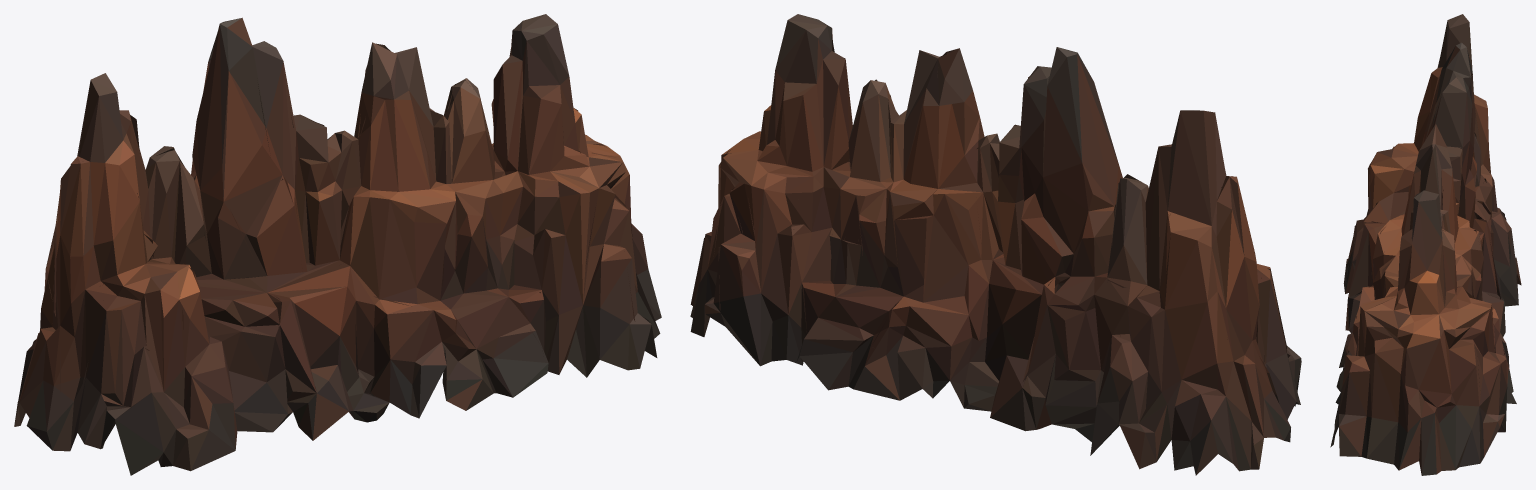
File: mn_rock_spires.glb
3 views of the same model, side by side, from view 1: azimuth 30°, elevation 25°; view 2: azimuth 150°, elevation 25°; view 3: azimuth 270°, elevation 25° (orthographic). The views are drawn at different scales.
Parts seen in each view (by area): view 1: mn_rock_spires; view 2: mn_rock_spires; view 3: mn_rock_spires.
Part boxes in pixels (x1,y1,x2,y2): mn_rock_spires: [14, 14, 661, 475]; mn_rock_spires: [690, 14, 1301, 475]; mn_rock_spires: [1330, 14, 1521, 475].
Size of what is drawn, in the model's own units: 13.73 by 7.96 by 4.85.
